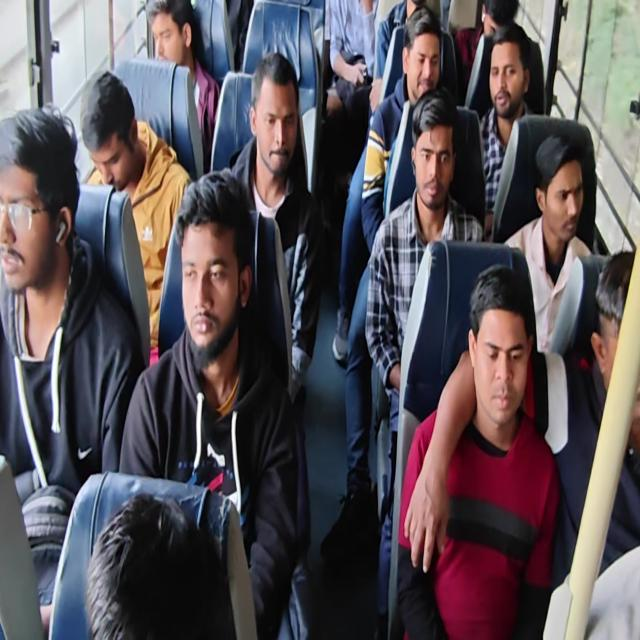person: (0, 118, 71, 304), (593, 259, 640, 459), (179, 199, 237, 354), (468, 294, 523, 445), (81, 90, 142, 196), (247, 59, 299, 181), (533, 154, 587, 246), (410, 113, 454, 200), (142, 0, 193, 69), (400, 26, 440, 106), (488, 39, 526, 122), (468, 0, 521, 55)
